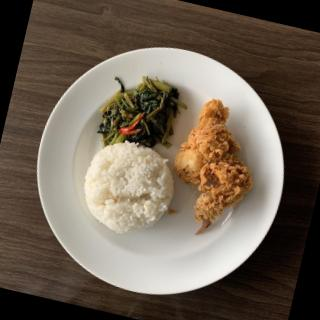Nasi: (77, 135, 183, 243)
